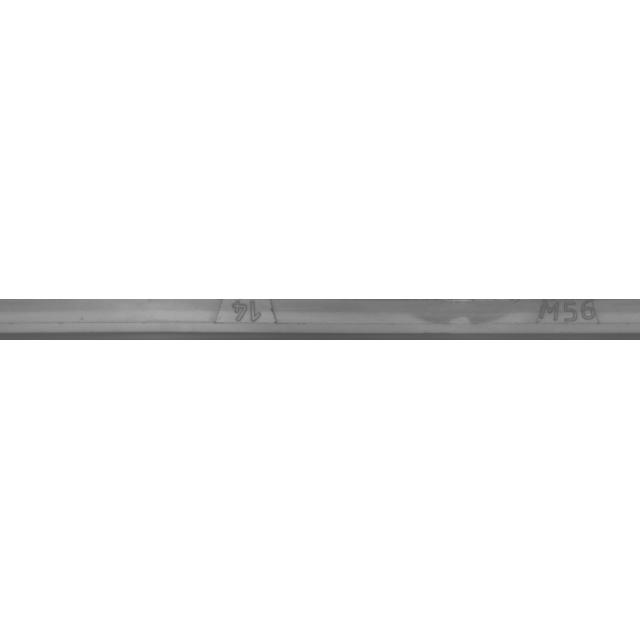mohao: (478, 270, 640, 370)
xuehao: (149, 270, 349, 370)
